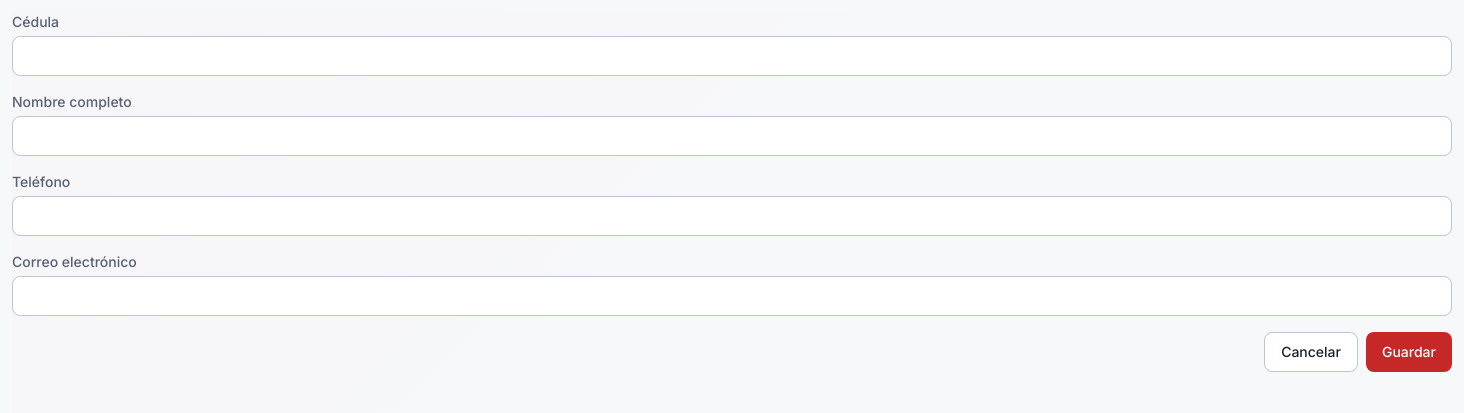
InstructorForm › valida diez dígitos antes de enviar
Type "1710034065" into the field labelled "Cédula". click: [732, 56]
box: top-left (12, 36), bottom-right (1452, 76)
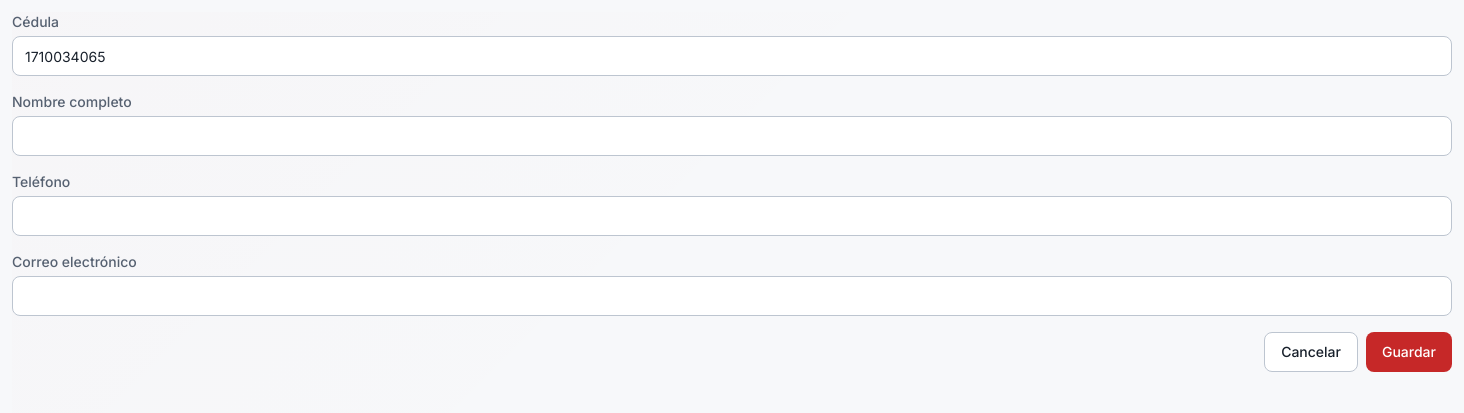
Type "Bruno Salas" into the field labelled "Nombre completo". click: [732, 136]
box: top-left (12, 116), bottom-right (1452, 156)
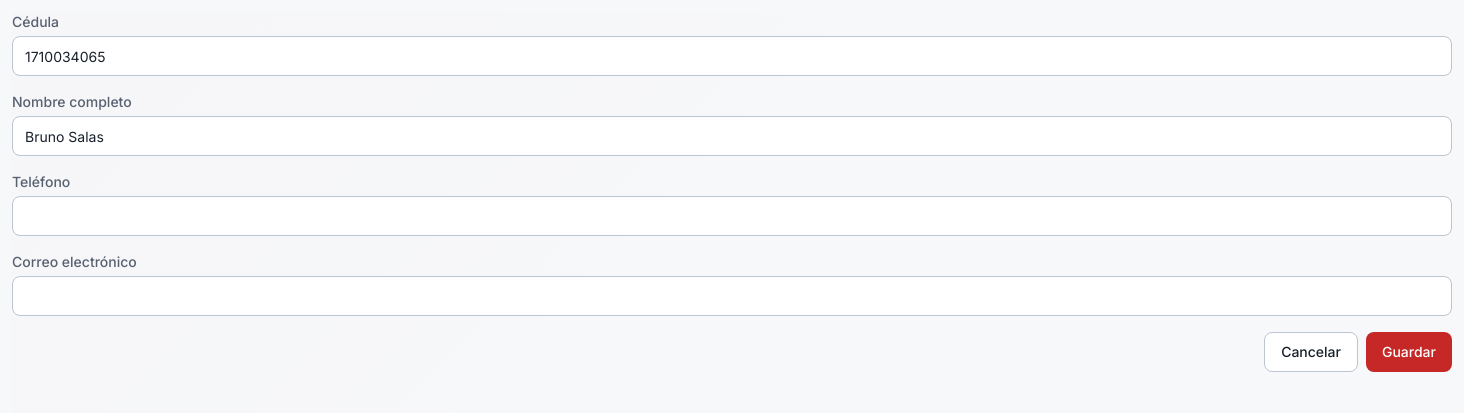
Type "0991234567" into the field labelled "Teléfono". click: [732, 216]
box: top-left (12, 196), bottom-right (1452, 236)
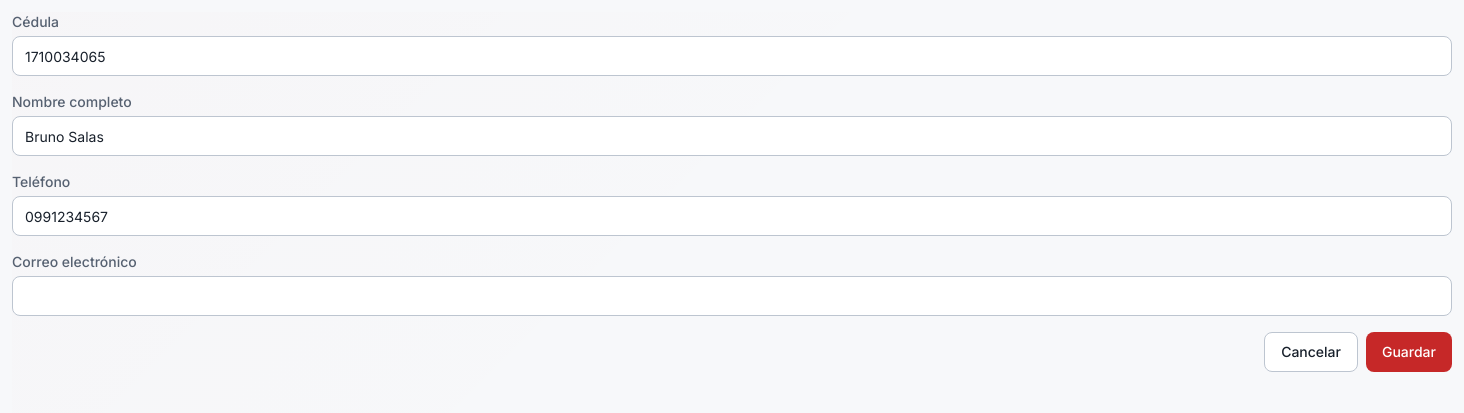
Type "bruno@example.com" into the field labelled "Correo electrónico". click: [732, 296]
box: top-left (12, 276), bottom-right (1452, 316)
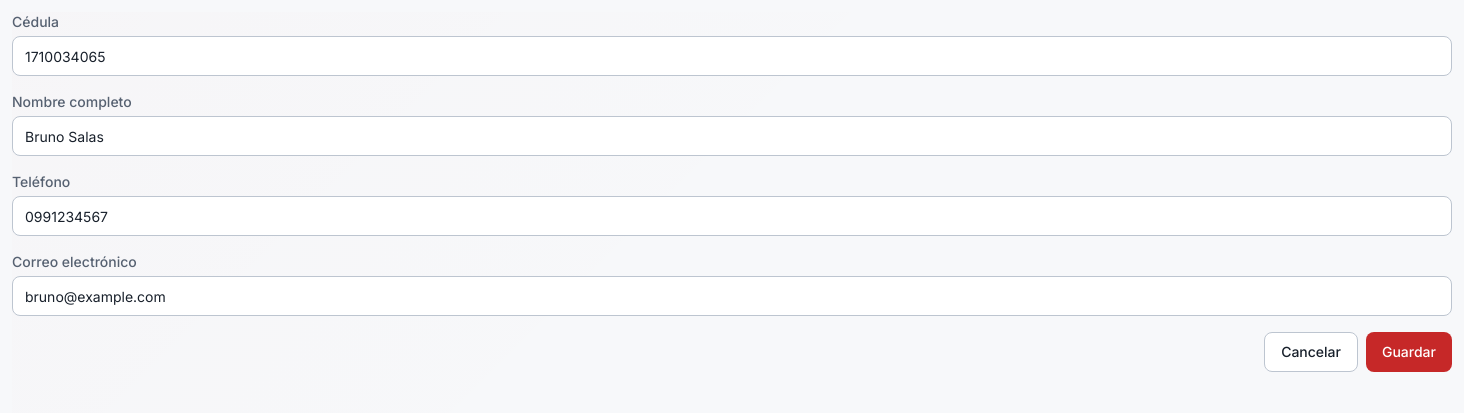
Replace the text in the field labelled "Cédula" with "123". click: [732, 56]
box: top-left (12, 36), bottom-right (1452, 76)
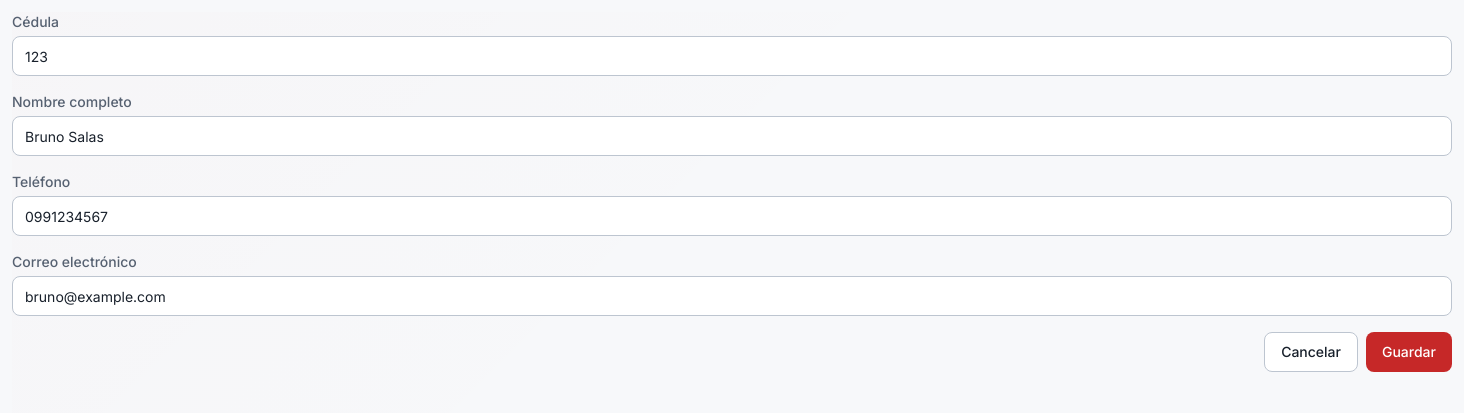
Submit the form "Guardar"
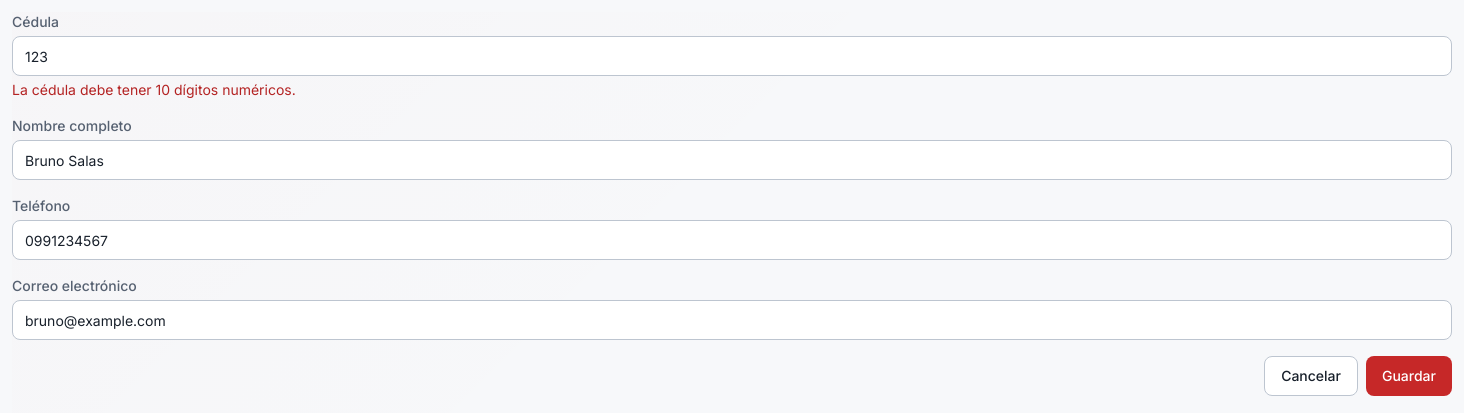
Now the text "La cédula debe tener 10 dígitos numéricos." is shown, box top-left (12, 81), bottom-right (296, 98)
